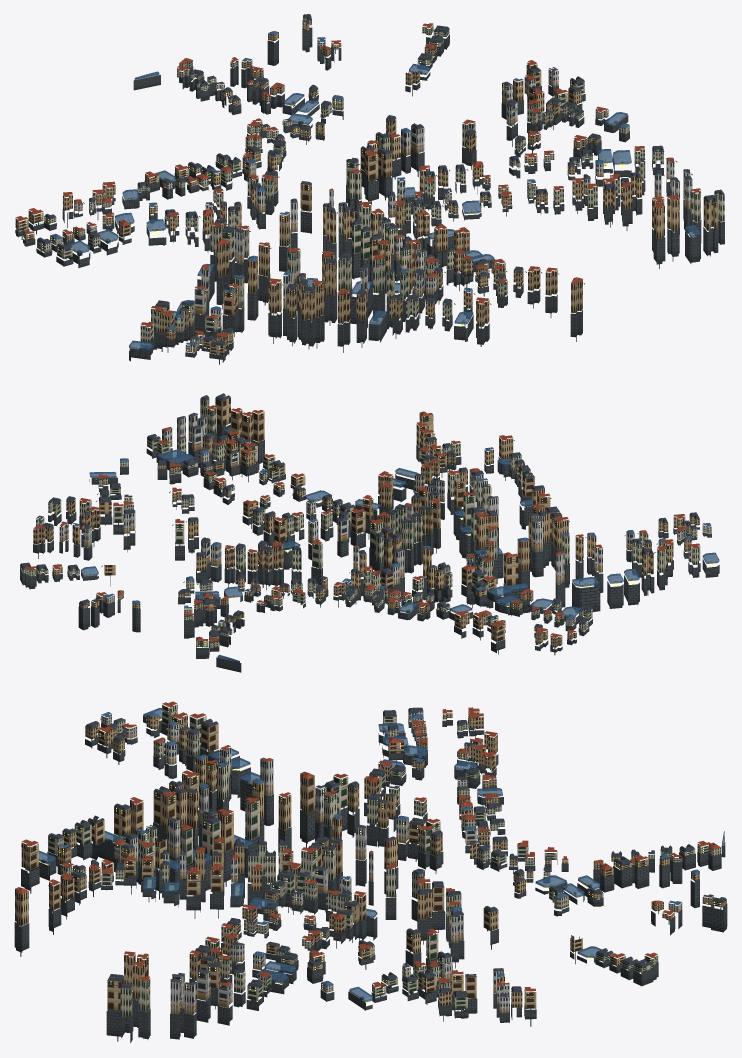
Rendered from osm_buildings_T_W01_N01_Q3.glb.
The picture shows the model from 3 angles, top to bottom: view 1: azimuth 30°, elevation 25°; view 2: azimuth 150°, elevation 25°; view 3: azimuth 270°, elevation 25°; orthographic projection. The views are drawn at different scales.
Visible parts, largest first — view 1: OSM_PBR_T_W01_N01_Q3_foundation, OSM_PBR_T_W01_N01_Q3_wall_french_ochre, OSM_PBR_T_W01_N01_Q3_wall_cream_stucco, OSM_PBR_T_W01_N01_Q3_roof_mansard_slate, OSM_PBR_T_W01_N01_Q3_roof_terracotta, OSM_PBR_T_W01_N01_Q3_greenhouse_blend, OSM_PBR_T_W01_N01_Q3_wall_warm_white, OSM_PBR_T_W01_N01_Q3_wall_pastel_sand, OSM_PBR_T_W01_N01_Q3_roof_mansard_deck, OSM_PBR_T_W01_N01_Q3_roof_mint_metal, OSM_PBR_T_W01_N01_Q3_trim_cornice, OSM_PBR_T_W01_N01_Q3_roof_alpine_blue (+2 smaller); view 2: OSM_PBR_T_W01_N01_Q3_foundation, OSM_PBR_T_W01_N01_Q3_wall_french_ochre, OSM_PBR_T_W01_N01_Q3_wall_cream_stucco, OSM_PBR_T_W01_N01_Q3_roof_mansard_slate, OSM_PBR_T_W01_N01_Q3_roof_terracotta, OSM_PBR_T_W01_N01_Q3_greenhouse_blend, OSM_PBR_T_W01_N01_Q3_wall_warm_white, OSM_PBR_T_W01_N01_Q3_wall_pastel_sand, OSM_PBR_T_W01_N01_Q3_roof_mansard_deck, OSM_PBR_T_W01_N01_Q3_roof_mint_metal, OSM_PBR_T_W01_N01_Q3_trim_cornice, OSM_PBR_T_W01_N01_Q3_roof_alpine_blue (+2 smaller); view 3: OSM_PBR_T_W01_N01_Q3_foundation, OSM_PBR_T_W01_N01_Q3_wall_french_ochre, OSM_PBR_T_W01_N01_Q3_wall_cream_stucco, OSM_PBR_T_W01_N01_Q3_roof_mansard_slate, OSM_PBR_T_W01_N01_Q3_roof_terracotta, OSM_PBR_T_W01_N01_Q3_wall_warm_white, OSM_PBR_T_W01_N01_Q3_greenhouse_blend, OSM_PBR_T_W01_N01_Q3_wall_pastel_sand, OSM_PBR_T_W01_N01_Q3_roof_mansard_deck, OSM_PBR_T_W01_N01_Q3_roof_mint_metal, OSM_PBR_T_W01_N01_Q3_trim_cornice, OSM_PBR_T_W01_N01_Q3_roof_alpine_blue (+2 smaller).
Boxes of the visible parts, x1,y1,x2,y2 form: OSM_PBR_T_W01_N01_Q3_foundation: (15,20,724,364); OSM_PBR_T_W01_N01_Q3_wall_french_ochre: (15,16,717,354); OSM_PBR_T_W01_N01_Q3_wall_cream_stucco: (44,25,724,347); OSM_PBR_T_W01_N01_Q3_roof_mansard_slate: (37,14,724,345); OSM_PBR_T_W01_N01_Q3_roof_terracotta: (16,23,700,337); OSM_PBR_T_W01_N01_Q3_greenhouse_blend: (69,63,700,350); OSM_PBR_T_W01_N01_Q3_wall_warm_white: (37,68,690,352); OSM_PBR_T_W01_N01_Q3_wall_pastel_sand: (196,39,692,327); OSM_PBR_T_W01_N01_Q3_roof_mansard_deck: (39,14,723,350); OSM_PBR_T_W01_N01_Q3_roof_mint_metal: (15,24,718,352); OSM_PBR_T_W01_N01_Q3_trim_cornice: (21,20,724,349); OSM_PBR_T_W01_N01_Q3_roof_alpine_blue: (50,31,629,345); OSM_PBR_T_W01_N01_Q3_foundation: (20,424,719,672); OSM_PBR_T_W01_N01_Q3_wall_french_ochre: (33,395,699,647); OSM_PBR_T_W01_N01_Q3_wall_cream_stucco: (20,398,700,648); OSM_PBR_T_W01_N01_Q3_roof_mansard_slate: (20,393,699,636); OSM_PBR_T_W01_N01_Q3_roof_terracotta: (25,405,699,647); OSM_PBR_T_W01_N01_Q3_greenhouse_blend: (81,428,719,662); OSM_PBR_T_W01_N01_Q3_wall_warm_white: (36,417,711,630); OSM_PBR_T_W01_N01_Q3_wall_pastel_sand: (59,414,634,627); OSM_PBR_T_W01_N01_Q3_roof_mansard_deck: (21,393,715,660); OSM_PBR_T_W01_N01_Q3_roof_mint_metal: (24,401,699,646); OSM_PBR_T_W01_N01_Q3_trim_cornice: (23,399,710,642); OSM_PBR_T_W01_N01_Q3_roof_alpine_blue: (73,447,711,619); OSM_PBR_T_W01_N01_Q3_foundation: (14,716,727,1043); OSM_PBR_T_W01_N01_Q3_wall_french_ochre: (15,711,726,1011); OSM_PBR_T_W01_N01_Q3_wall_cream_stucco: (48,704,720,1017); OSM_PBR_T_W01_N01_Q3_roof_mansard_slate: (48,708,726,997); OSM_PBR_T_W01_N01_Q3_roof_terracotta: (15,701,720,994); OSM_PBR_T_W01_N01_Q3_wall_warm_white: (101,710,509,1015); OSM_PBR_T_W01_N01_Q3_greenhouse_blend: (39,708,725,1004); OSM_PBR_T_W01_N01_Q3_wall_pastel_sand: (114,743,682,1014); OSM_PBR_T_W01_N01_Q3_roof_mansard_deck: (42,707,724,1003); OSM_PBR_T_W01_N01_Q3_roof_mint_metal: (15,711,722,1005); OSM_PBR_T_W01_N01_Q3_trim_cornice: (17,705,726,1003); OSM_PBR_T_W01_N01_Q3_roof_alpine_blue: (58,712,699,986).
Bounding box in the file's own units: 990 × 150 × 945.
Materials: 18 (16 with a texture image).
